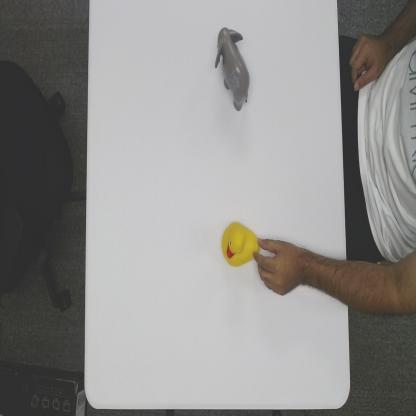Arm: (304, 248, 348, 306)
Duck: (220, 219, 260, 270)
Elephant: (214, 25, 251, 114)
Hand: (252, 234, 302, 298)
